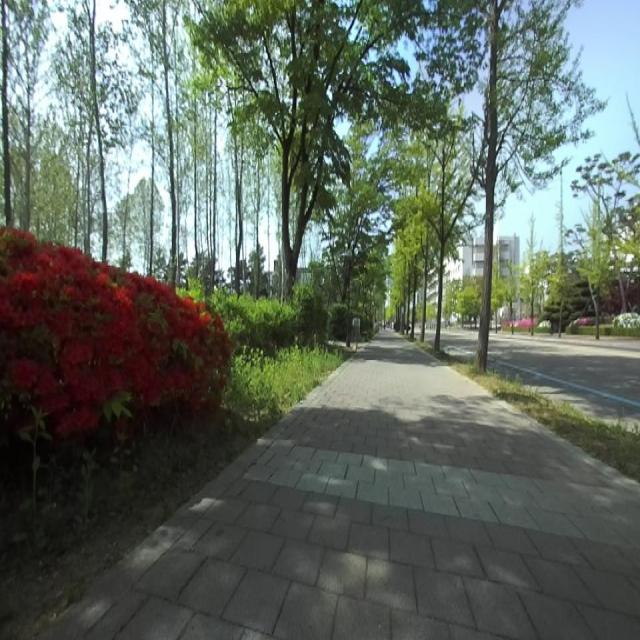sidewalk: (44, 332, 640, 639)
